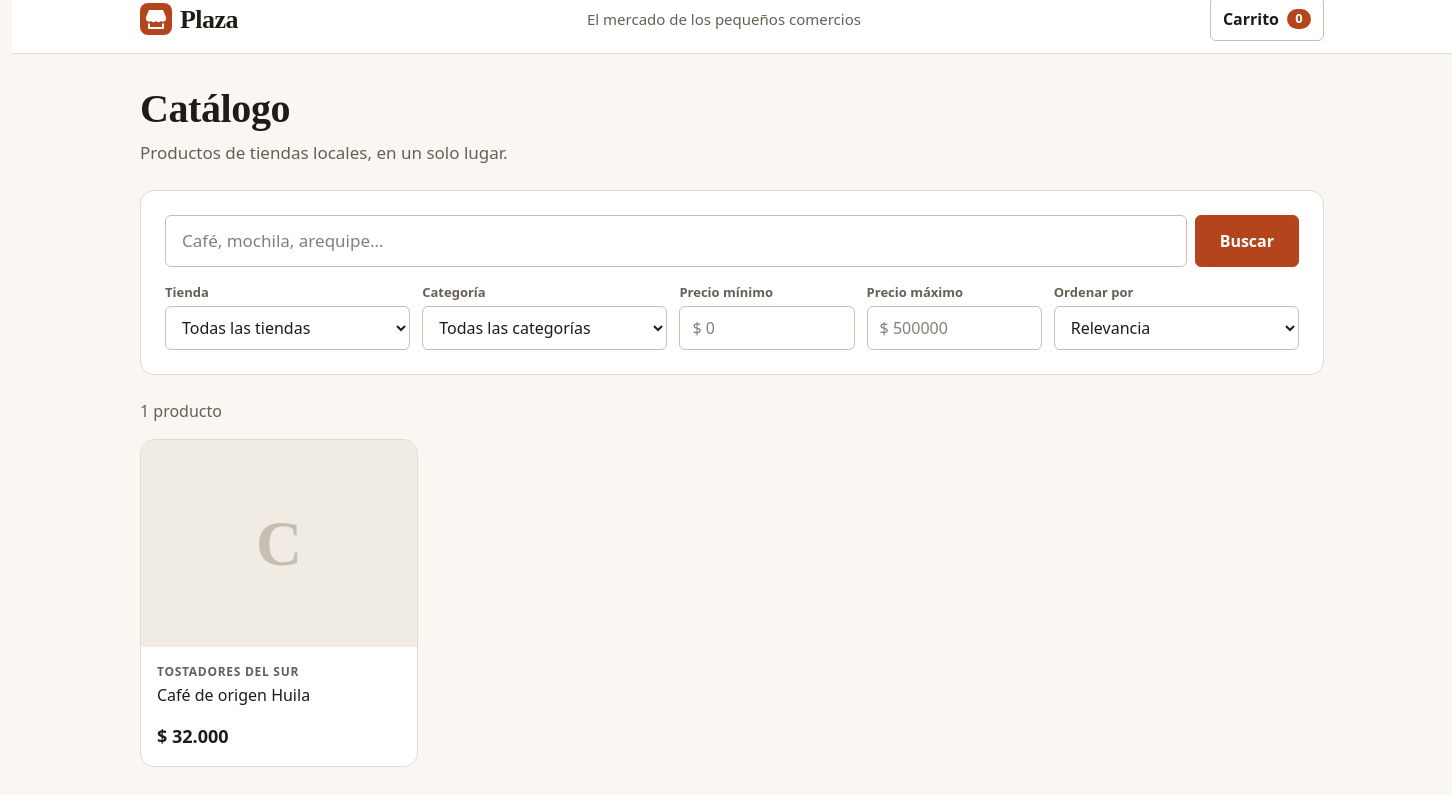
Test: CatalogPage › typing a search updates the URL and requests with q
Expected: the heading "Café de origen Huila" is shown, x1=157 y1=684 x2=310 y2=706
Type "mochila" into the search field named "Buscar" at (676, 240), box x1=165 y1=214 x2=1187 y2=266
(page scrolled)
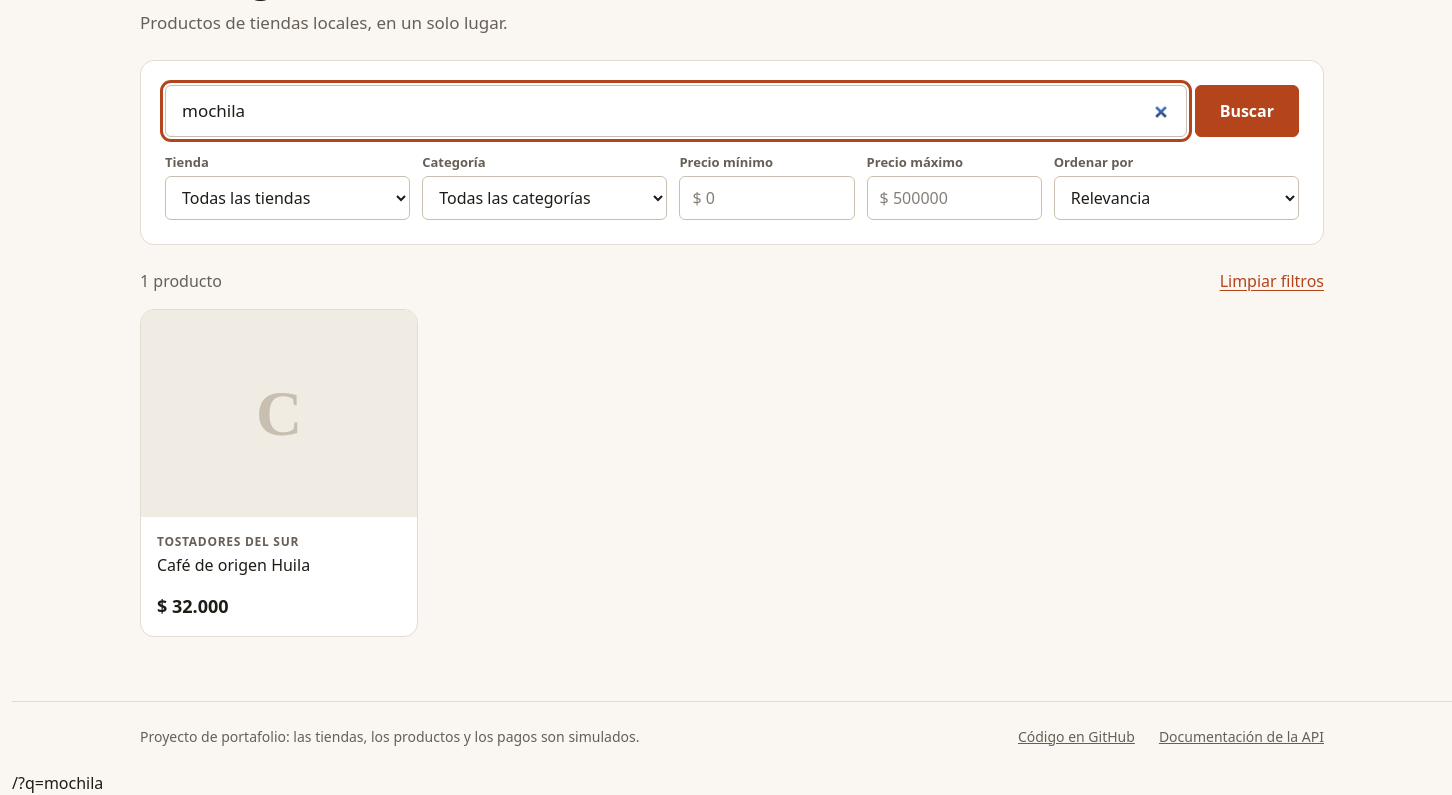
Result: the text with test id "url" reads "/?q=mochila" at x1=12 y1=772 x2=103 y2=794
